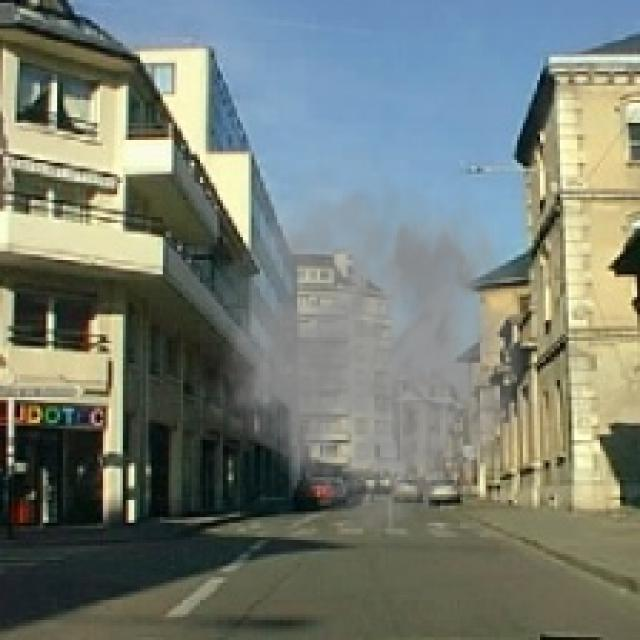smoke: (194, 143, 543, 534)
